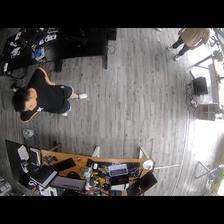normal: (13, 68, 88, 123)
